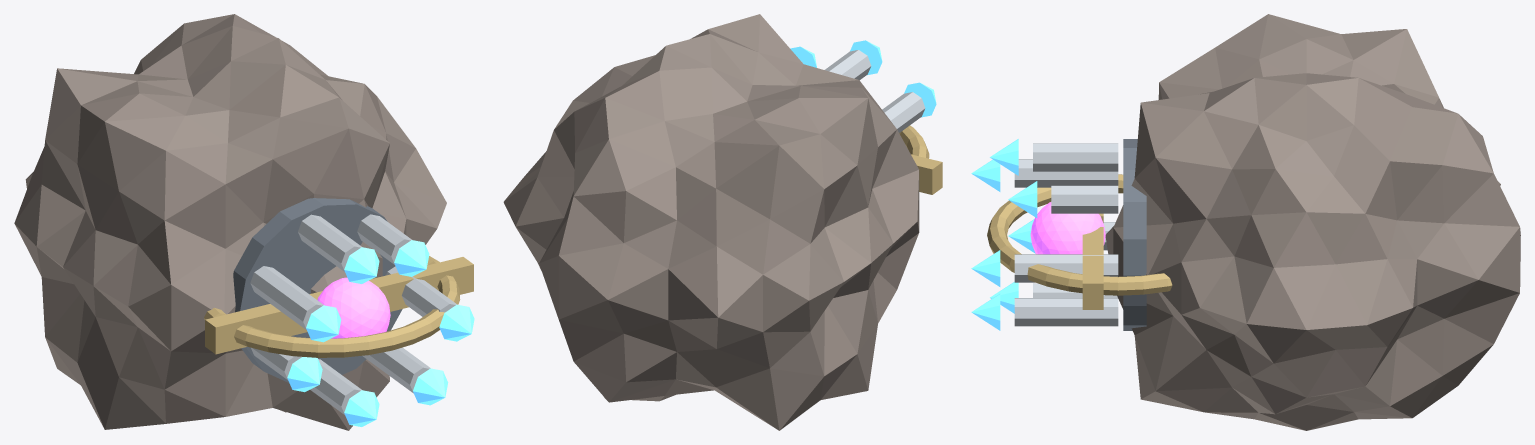
Rendered from citadel_02.glb.
The picture shows the model from 3 angles, left to right: view 1: azimuth 30°, elevation 25°; view 2: azimuth 150°, elevation 25°; view 3: azimuth 270°, elevation 25°; orthographic projection. The views are drawn at different scales.
Visible parts, largest first — view 1: asteroid, citadel_deck, orbital_ring, core, launch_arm-1, tower3, launch_arm1, tower2, tower1, tower6, tower0, tower5 (+8 smaller); view 2: asteroid, tower3, launch_arm-1, tower2, orbital_ring, spire2, spire3; view 3: asteroid, orbital_ring, citadel_deck, tower6, core, tower2, tower1, tower3, launch_arm1, tower0, spire1, spire0 (+4 smaller).
Boxes of the visible parts, box(x1,y1,x2,y2) form: asteroid: box(14, 14, 446, 430); citadel_deck: box(233, 198, 402, 382); orbital_ring: box(204, 256, 460, 357); core: box(317, 277, 390, 338); launch_arm-1: box(205, 291, 322, 354); tower3: box(250, 266, 323, 330); launch_arm1: box(369, 257, 473, 311); tower2: box(298, 214, 362, 271); tower1: box(357, 214, 411, 264); tower6: box(362, 347, 430, 393); tower0: box(386, 266, 456, 316); tower5: box(310, 359, 362, 414); asteroid: box(503, 14, 919, 430); tower3: box(882, 92, 925, 132); launch_arm-1: box(911, 154, 942, 194); tower2: box(825, 50, 871, 80); orbital_ring: box(899, 125, 929, 158); spire2: box(850, 40, 882, 75); spire3: box(904, 82, 936, 117); asteroid: box(1105, 14, 1520, 430); orbital_ring: box(987, 174, 1172, 295); citadel_deck: box(1123, 139, 1146, 330); tower6: box(1014, 298, 1118, 326); core: box(1030, 202, 1105, 254); tower2: box(1033, 143, 1118, 171); tower1: box(1051, 185, 1118, 213); tower3: box(1014, 159, 1118, 187); launch_arm1: box(1082, 227, 1103, 309); tower0: box(1014, 254, 1118, 282); spire1: box(1008, 181, 1037, 217); spire0: box(971, 250, 1000, 286).
Size of the model in its own units: 4.97 by 4.57 by 6.57.
